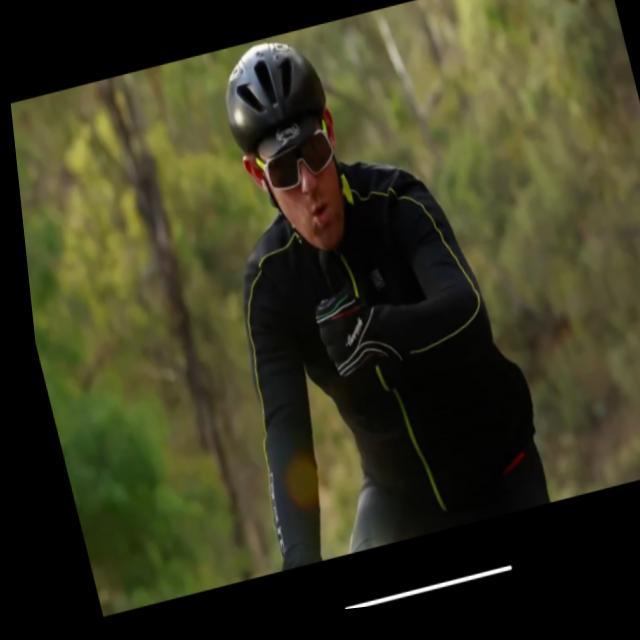Helmet: (209, 26, 371, 264)
